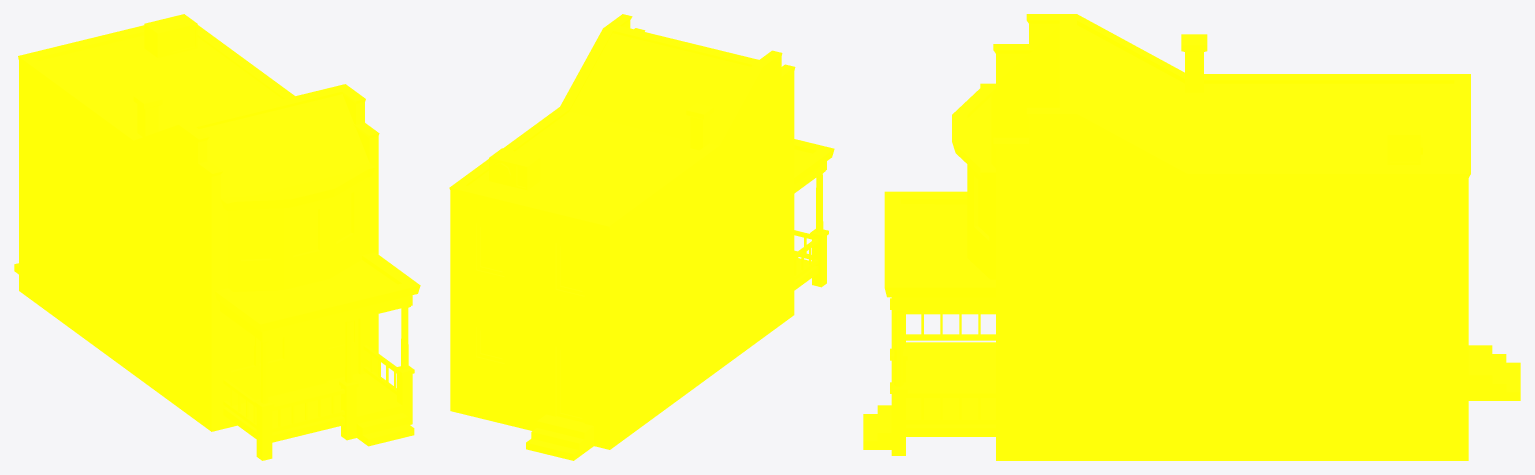
The model's file is building-house-block-old.glb.
3 views of the same model, side by side, from view 1: azimuth 30°, elevation 25°; view 2: azimuth 150°, elevation 25°; view 3: azimuth 270°, elevation 25° (orthographic). The views are drawn at different scales.
Visible parts, largest first — view 1: building-house-block-old; view 2: building-house-block-old; view 3: building-house-block-old.
Boxes of the visible parts, x1,y1,x2,y2 form: building-house-block-old: (14, 14, 420, 460); building-house-block-old: (449, 14, 834, 460); building-house-block-old: (863, 14, 1520, 460).
Bounding box in the file's own units: 5 × 8.1 × 13.9.
Materials: 1 (1 with a texture image).
